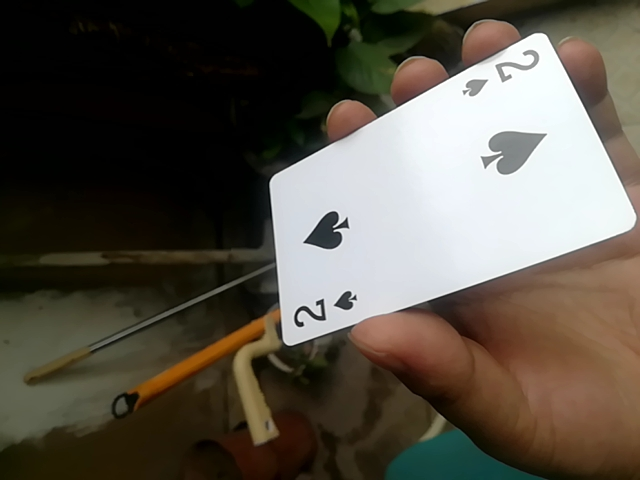ht 2: (259, 35, 639, 356)
